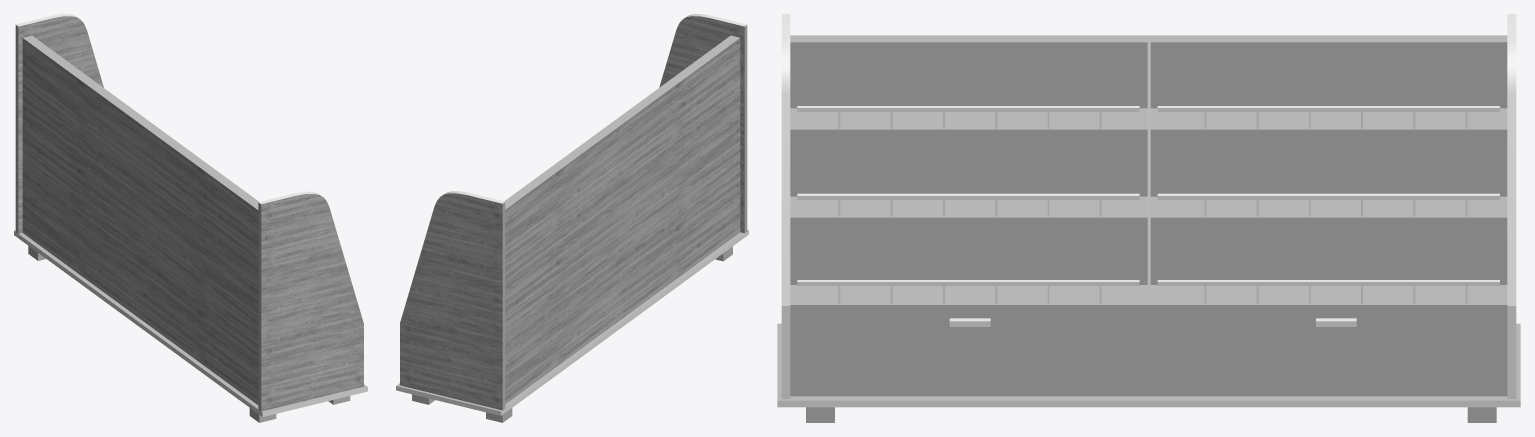
File: Stand_A.FBX
The picture shows the model from 3 angles, left to right: view 1: azimuth 30°, elevation 25°; view 2: azimuth 150°, elevation 25°; view 3: azimuth 270°, elevation 25°; orthographic projection. The views are drawn at different scales.
Parts seen in each view (by area): view 1: Stand_A; view 2: Stand_A; view 3: Part_B, Stand_A.
Part boxes in pixels (x1,y1,x2,y2): Stand_A: (14,14,367,422); Stand_A: (396,14,748,422); Part_B: (790,42,1507,396); Stand_A: (777,14,1520,422).
Bounding box in the file's own units: 0.8343 × 1.71 × 3.41.
